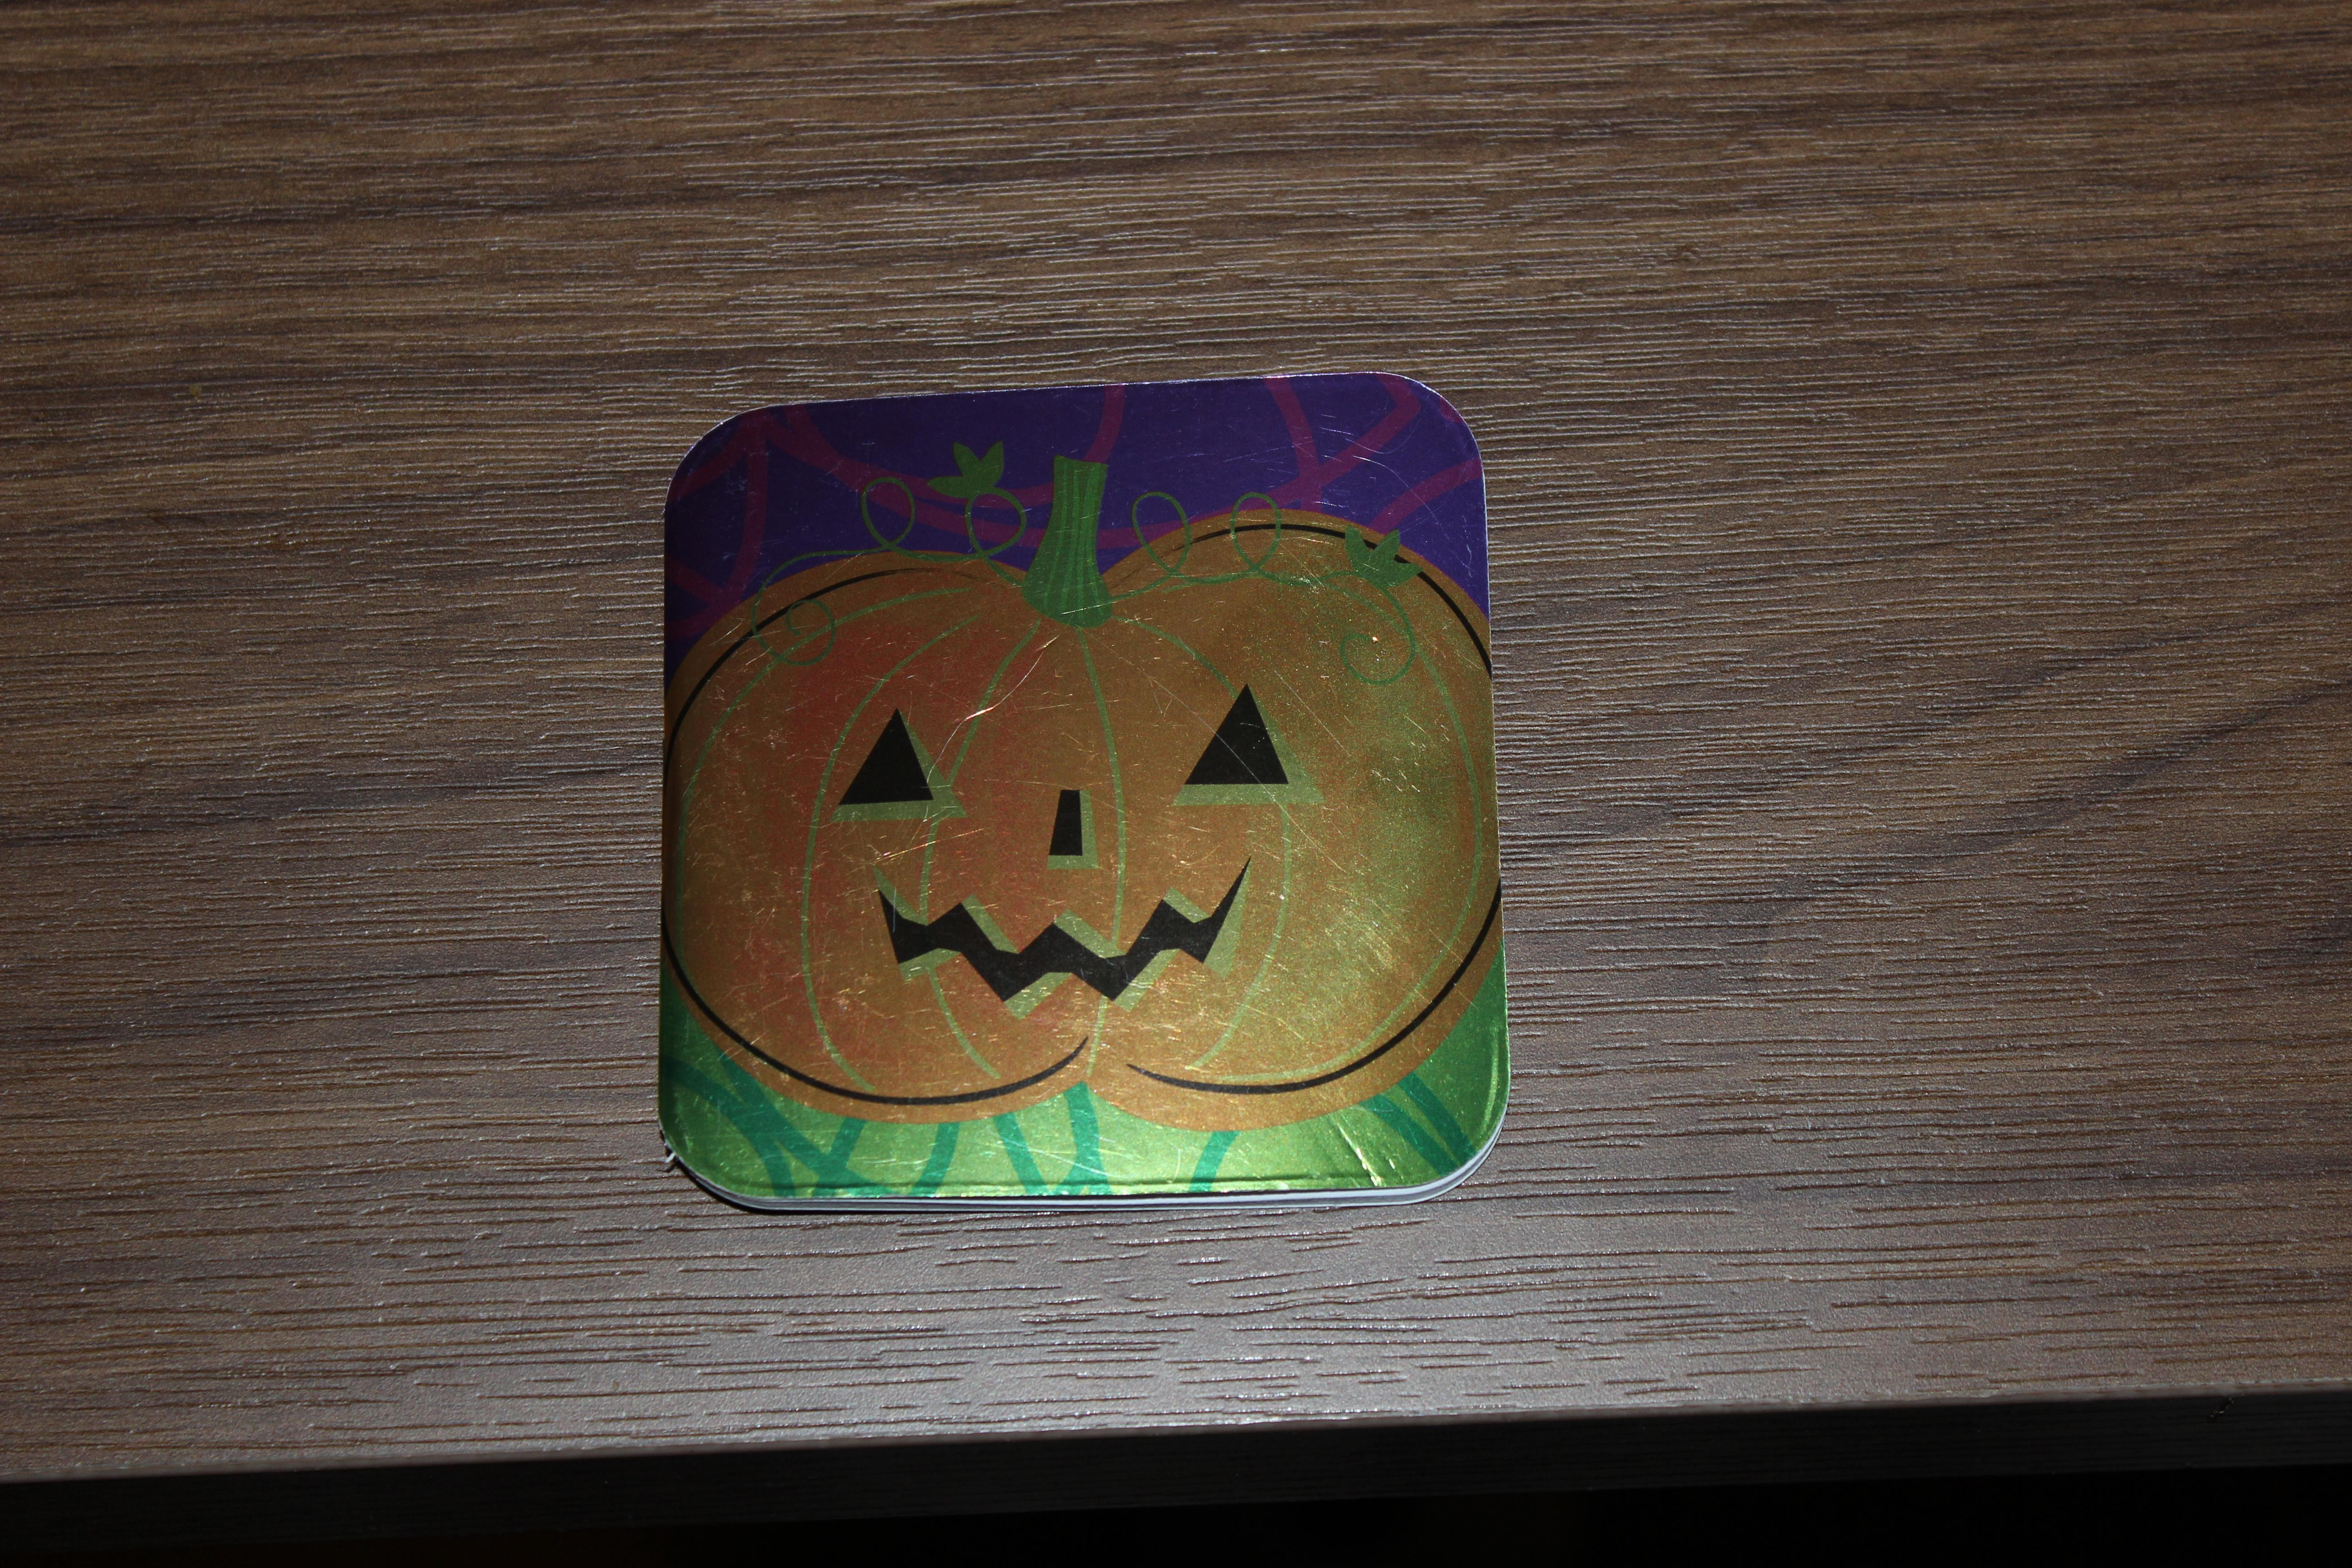pumpkinNotes: (621, 341, 1542, 1239)
